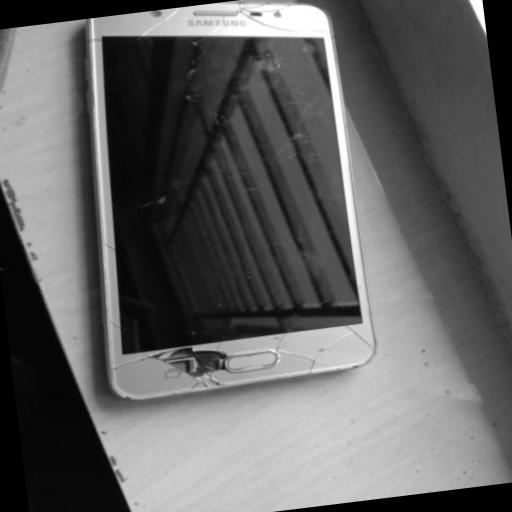phone: (79, 2, 378, 413)
